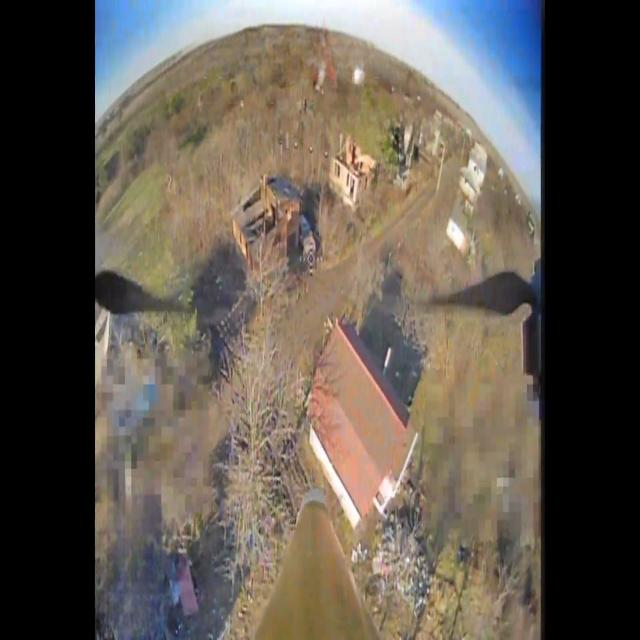Vehicle: (300, 216, 316, 262)
